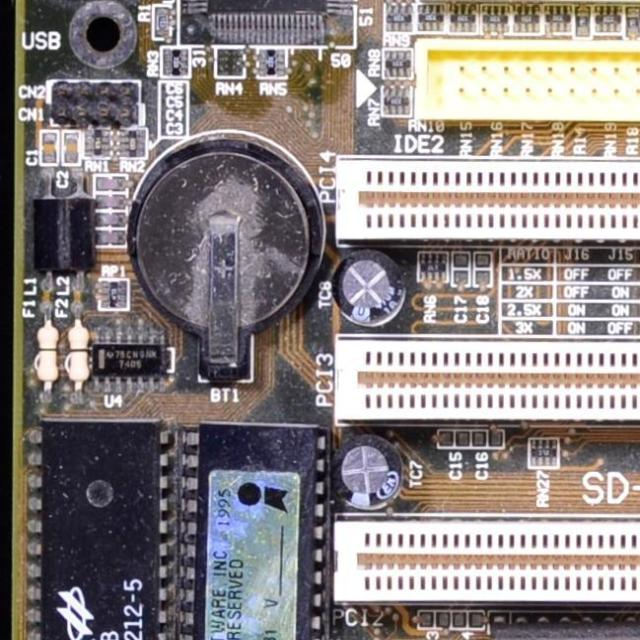IC: (183, 425, 328, 640), (31, 417, 167, 640), (186, 0, 350, 43), (90, 325, 176, 388)
capacitor: (417, 606, 490, 631), (450, 250, 496, 288), (438, 430, 509, 450), (41, 128, 57, 166), (61, 129, 77, 164)
connector: (334, 515, 640, 610), (339, 153, 640, 245), (336, 335, 640, 426), (415, 33, 640, 122), (411, 0, 640, 3)
resistor: (415, 248, 447, 286), (156, 2, 174, 41)
